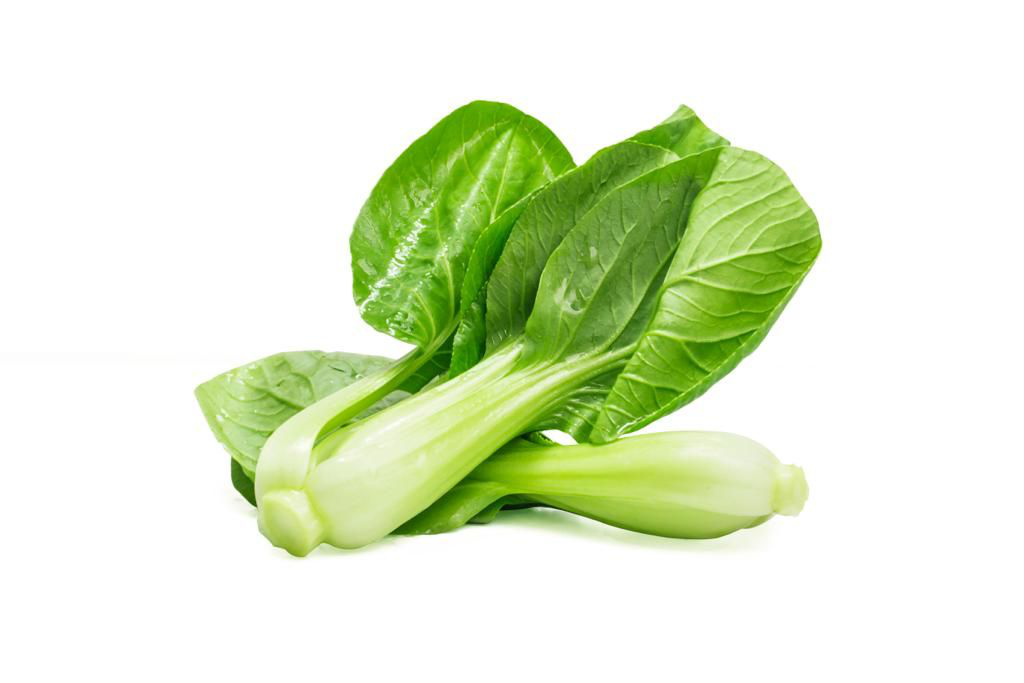Sawi: (192, 117, 904, 593)
